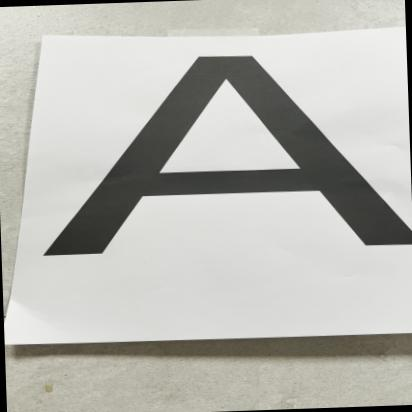seat: (27, 35, 412, 318)
